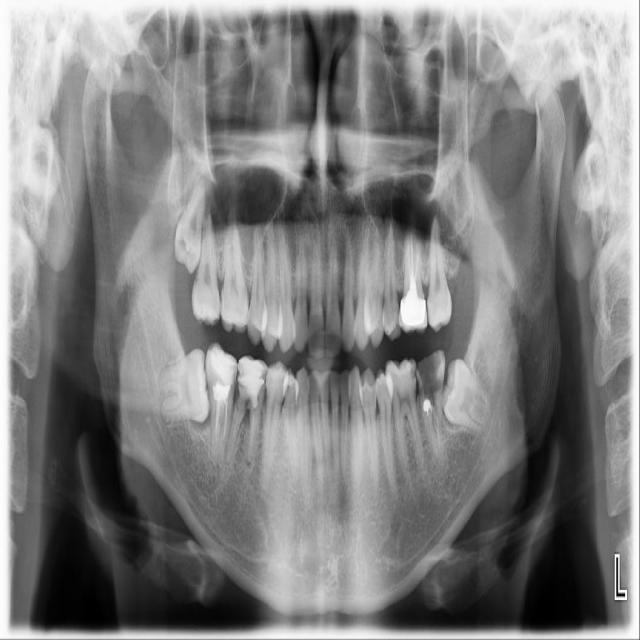Crown: (397, 296, 429, 334)
Filling: (205, 345, 237, 384), (237, 356, 267, 391)
Periapical lesion: (233, 396, 252, 470), (254, 464, 271, 497), (189, 414, 210, 433), (442, 453, 452, 475), (224, 445, 231, 465)
Root Canal Treatment: (220, 401, 228, 446), (216, 400, 222, 439), (414, 234, 418, 274), (411, 232, 414, 275), (251, 416, 255, 444), (408, 237, 410, 268)
Root Piece: (416, 348, 444, 466)
impacted tooth: (152, 350, 213, 425), (443, 359, 492, 429), (174, 177, 204, 274)
